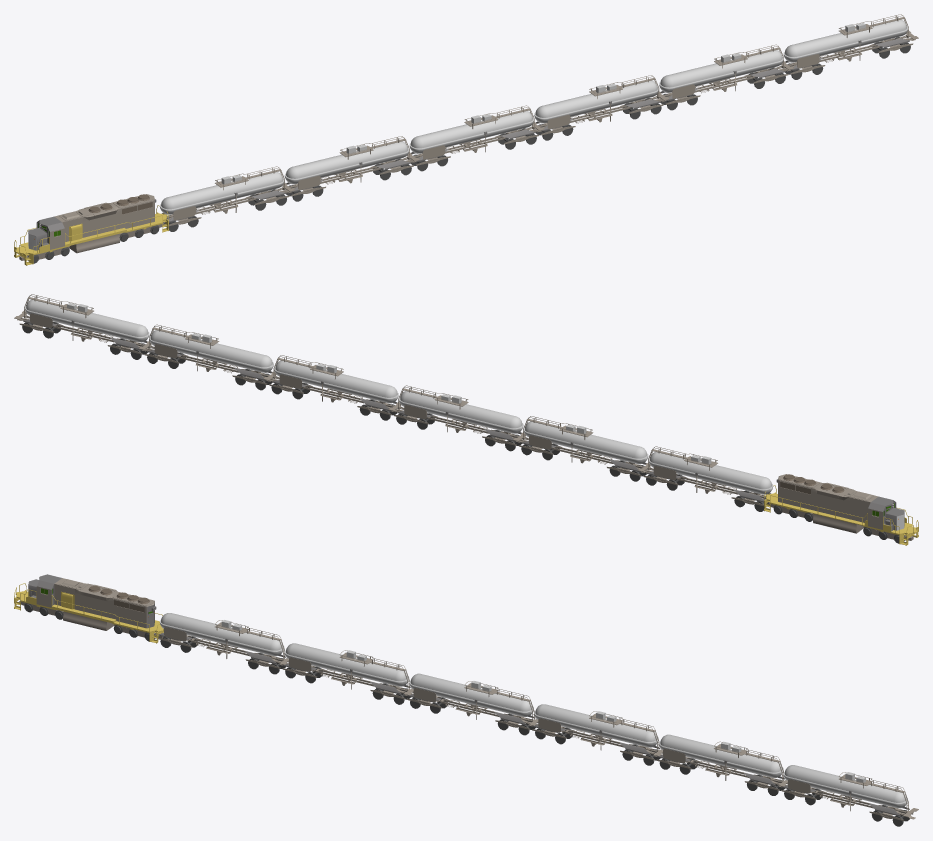
File: 货运火车.gltf
The picture shows the model from 3 angles, top to bottom: view 1: azimuth 30°, elevation 25°; view 2: azimuth 150°, elevation 25°; view 3: azimuth 330°, elevation 25°; orthographic projection.
Visible parts, largest first — view 1: 动车02; view 2: 动车02; view 3: 动车02.
Boxes of the visible parts, x1,y1,x2,y2 form: 动车02: [14, 14, 918, 265]; 动车02: [14, 294, 918, 545]; 动车02: [14, 574, 918, 826].
Size of the model in its own units: 74.55 by 3.08 by 1.99.
